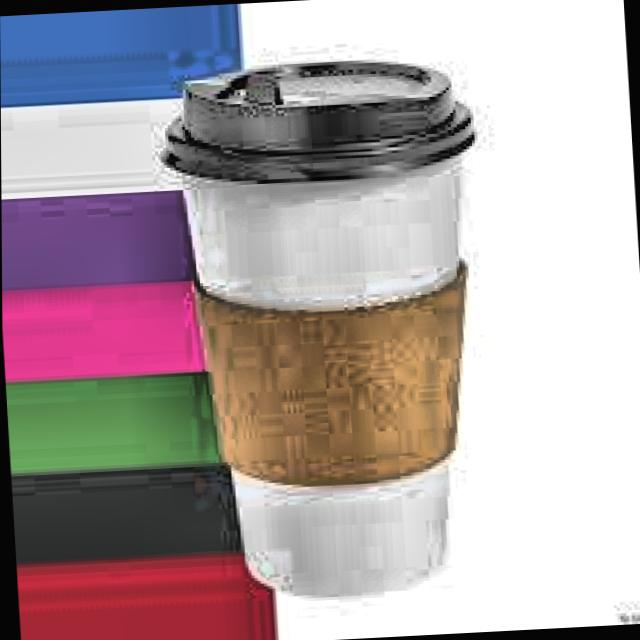Cup: (158, 121, 492, 610)
